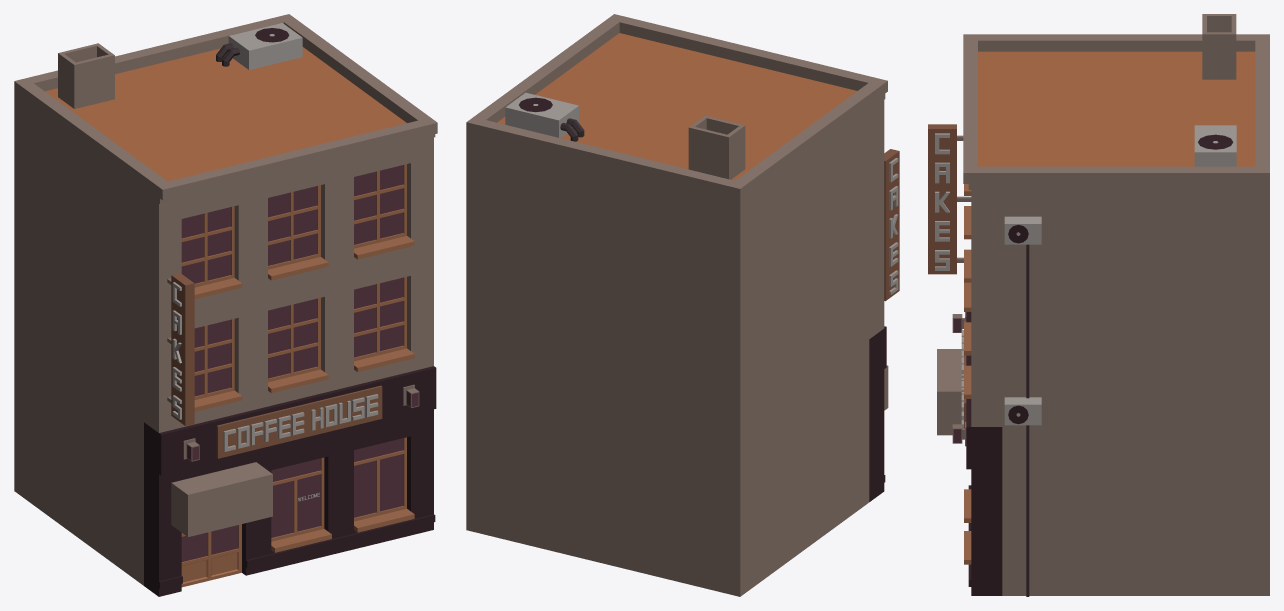
File: Building_15.fbx
The picture shows the model from 3 angles, left to right: view 1: azimuth 30°, elevation 25°; view 2: azimuth 150°, elevation 25°; view 3: azimuth 270°, elevation 25°; orthographic projection. The views are drawn at different scales.
Visible parts, largest first — view 1: Building_15, Building_15LP; view 2: Building_15, Building_15LP; view 3: Building_15, Building_15LP.
Boxes of the visible parts, <box> form: Building_15: <box>14,14,437,596</box>; Building_15LP: <box>172,207,418,561</box>; Building_15: <box>466,14,899,596</box>; Building_15LP: <box>889,158,898,294</box>; Building_15: <box>928,14,1269,596</box>; Building_15LP: <box>935,133,963,442</box>.
Bounding box in the file's own units: 8.77 × 12.84 × 8.7.
